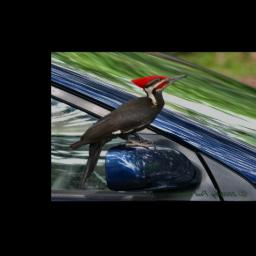Woodpecker: (66, 74, 190, 190)
